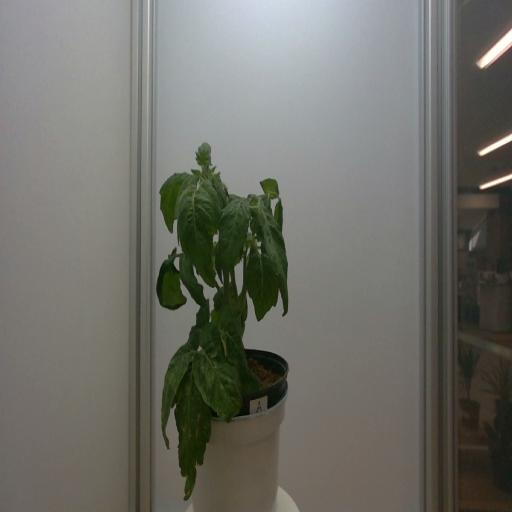Tomato-Leaves-Cupboard-: (171, 374, 214, 510), (178, 175, 217, 292), (194, 343, 244, 425), (158, 342, 195, 452), (261, 209, 293, 324), (244, 249, 279, 329), (216, 197, 250, 277), (154, 248, 186, 314), (158, 174, 192, 236), (227, 337, 258, 403), (178, 248, 206, 306), (197, 318, 219, 357), (257, 169, 279, 200), (250, 196, 264, 244), (192, 297, 212, 329), (275, 196, 286, 232), (190, 166, 201, 177)
